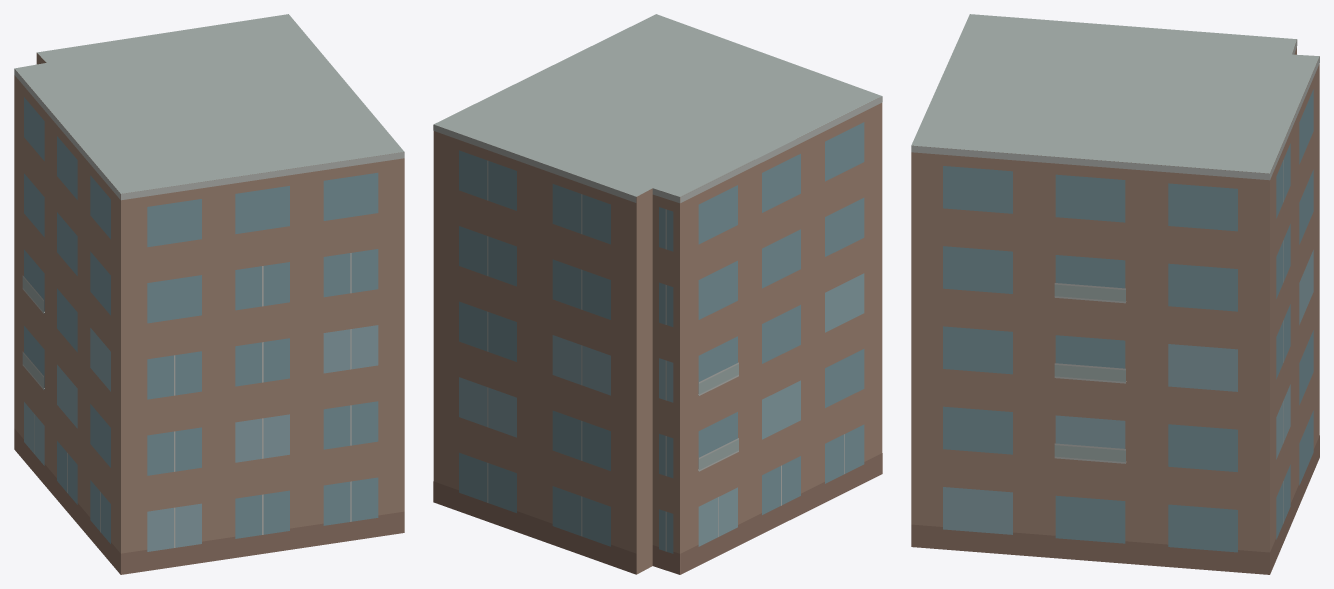
The model's file is survey-upis-32929871.glb.
3 views of the same model, side by side, from view 1: azimuth 30°, elevation 25°; view 2: azimuth 150°, elevation 25°; view 3: azimuth 270°, elevation 25° (orthographic). The views are drawn at different scales.
Visible parts, largest first — view 1: survey-upis-32929871.tmp; view 2: survey-upis-32929871.tmp; view 3: survey-upis-32929871.tmp.
Boxes of the visible parts, x1,y1,x2,y2 form: survey-upis-32929871.tmp: (14, 14, 404, 574); survey-upis-32929871.tmp: (433, 14, 882, 574); survey-upis-32929871.tmp: (911, 14, 1319, 574).
Bounding box in the file's own units: 12.46 × 14.6 × 13.48.
